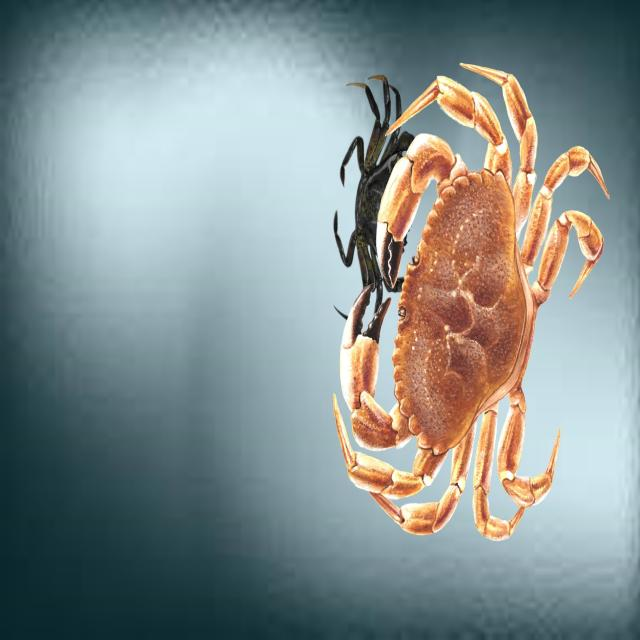European_Green_Crab: (324, 57, 408, 293)
